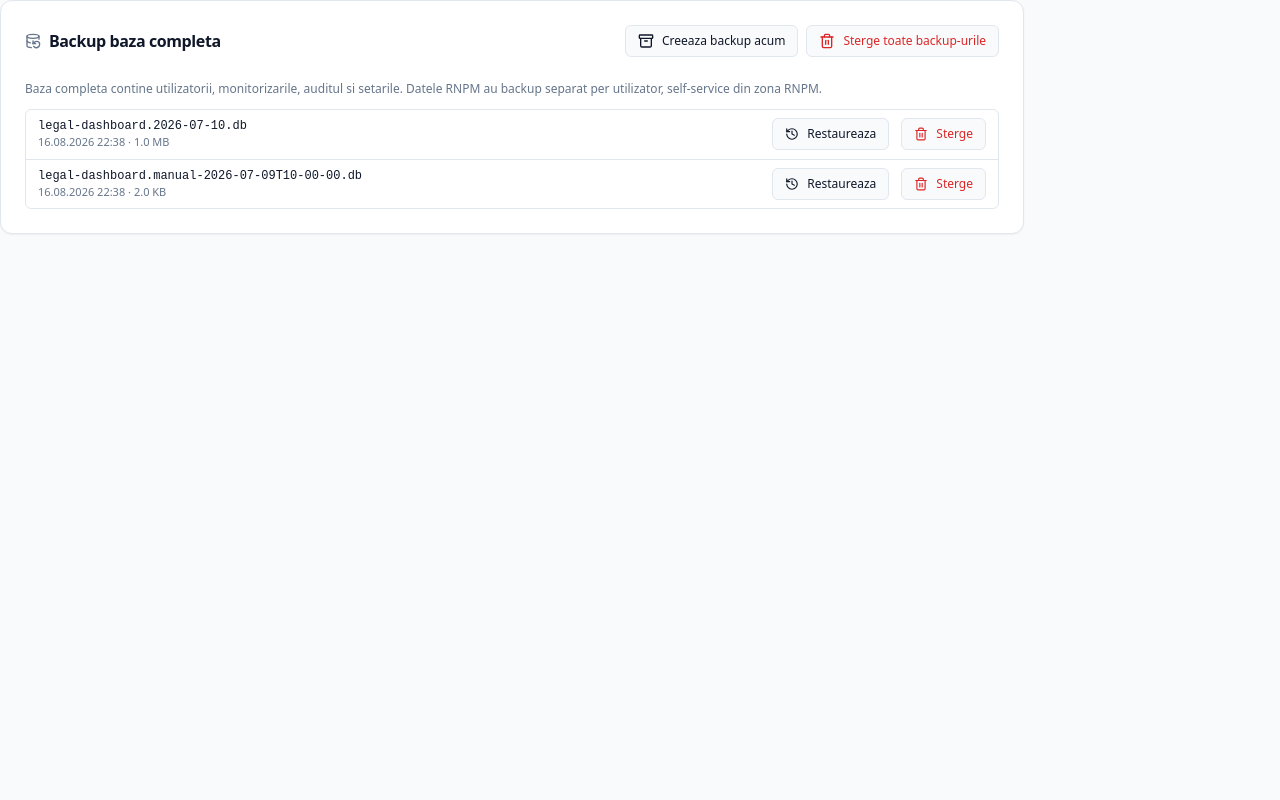
Scenario: AdminBackups (embedded) › restore cere confirmare destructiva cu copy-ul despre baza COMPLETA, apoi apeleaza API-ul
Click the button "Restaureaza" in the row of "legal-dashboard.2026-07-10.db" at (831, 134), box x1=772 y1=118 x2=889 y2=150
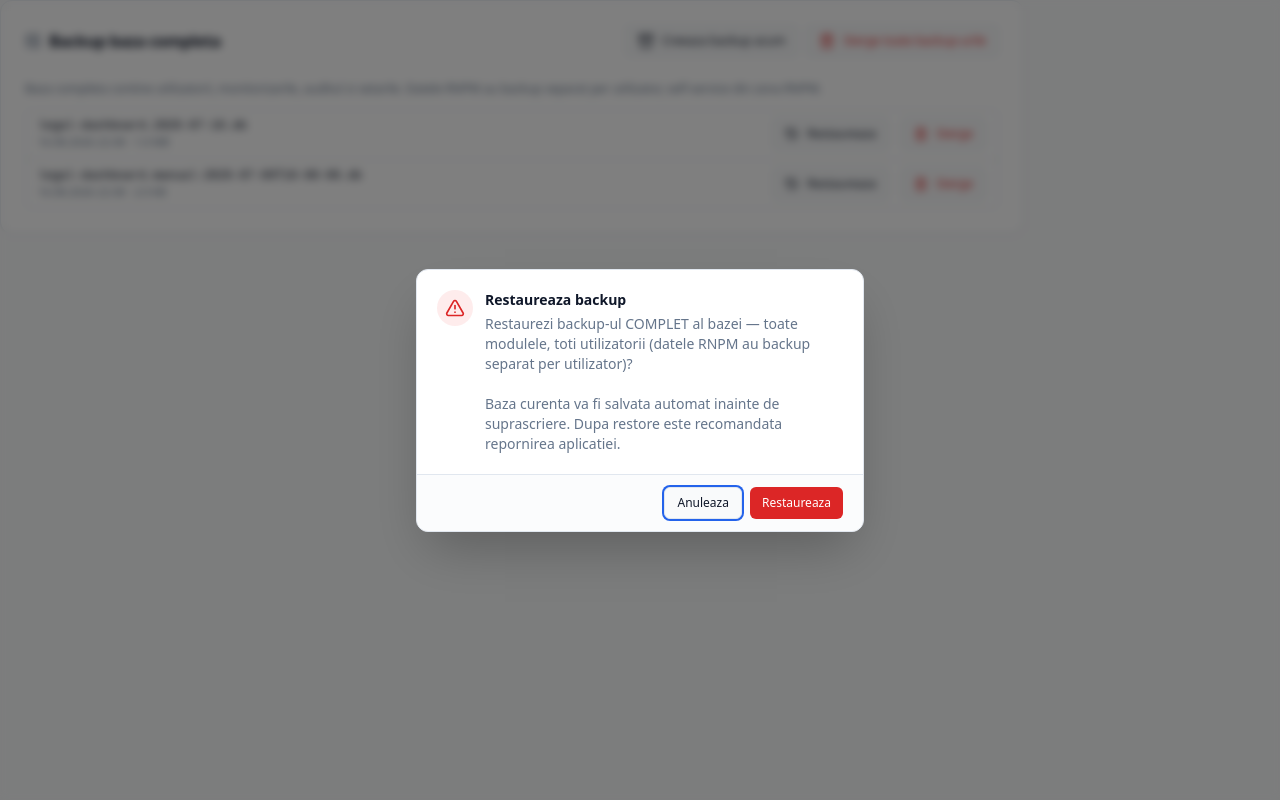
Expected: the dialog shows "backup-ul COMPLET al bazei", x1=485 y1=314 x2=810 y2=452
Expected: the dialog shows "toti utilizatorii", x1=485 y1=314 x2=810 y2=452
Expected: the dialog shows "backup separat per utilizator", x1=485 y1=314 x2=810 y2=452
Click the button "Restaureaza" at (796, 502), box x1=750 y1=486 x2=843 y2=518
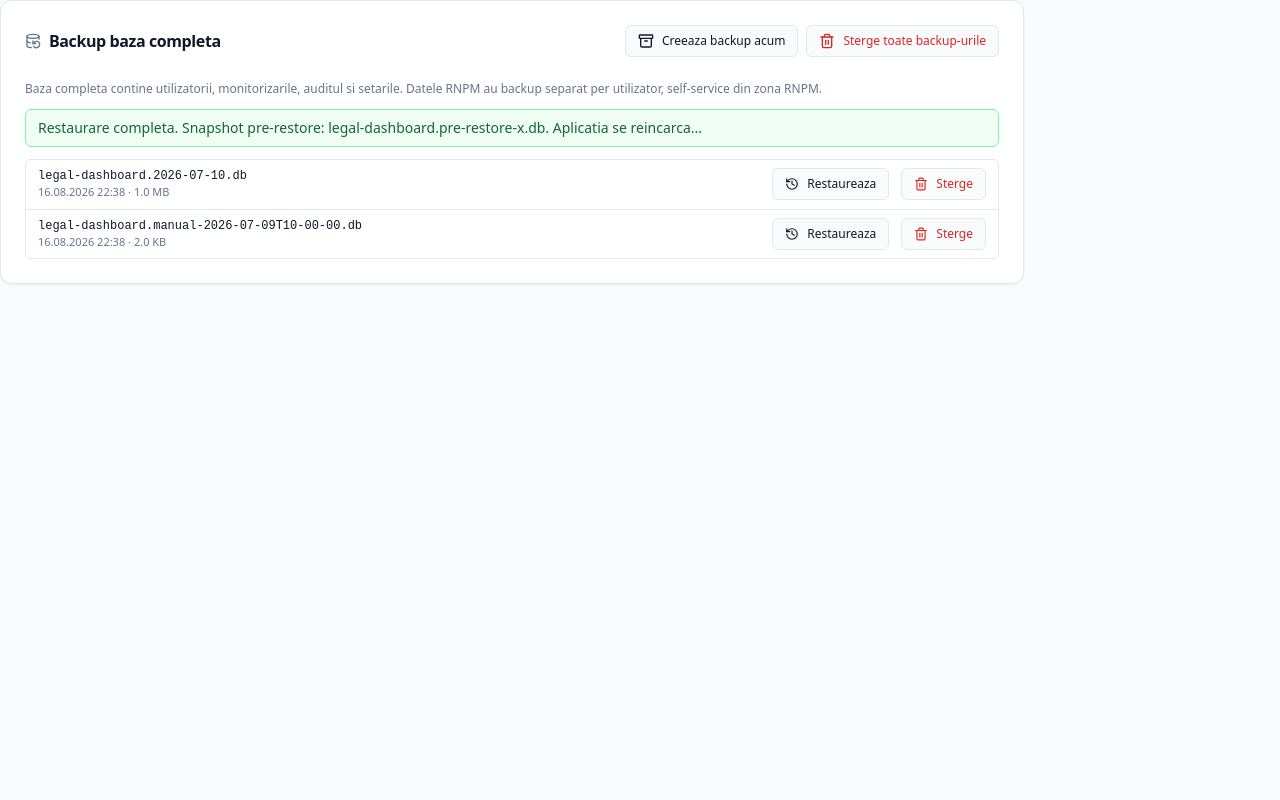
Expected: the text "Restaurare completa. Snapshot pre-restore: legal-dashboard.pre-restore-x.db" is shown, x1=38 y1=118 x2=702 y2=137
